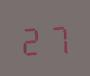seven: (45, 20, 70, 54)
two: (19, 21, 44, 56)
